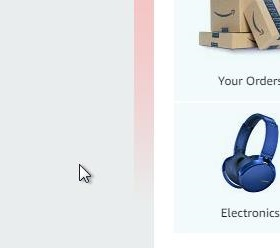cursor: (77, 162, 92, 184)
